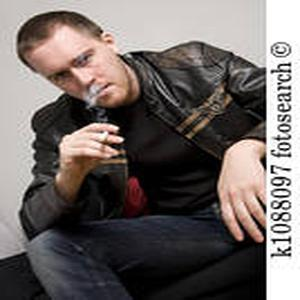cigarette: (98, 130, 109, 144)
